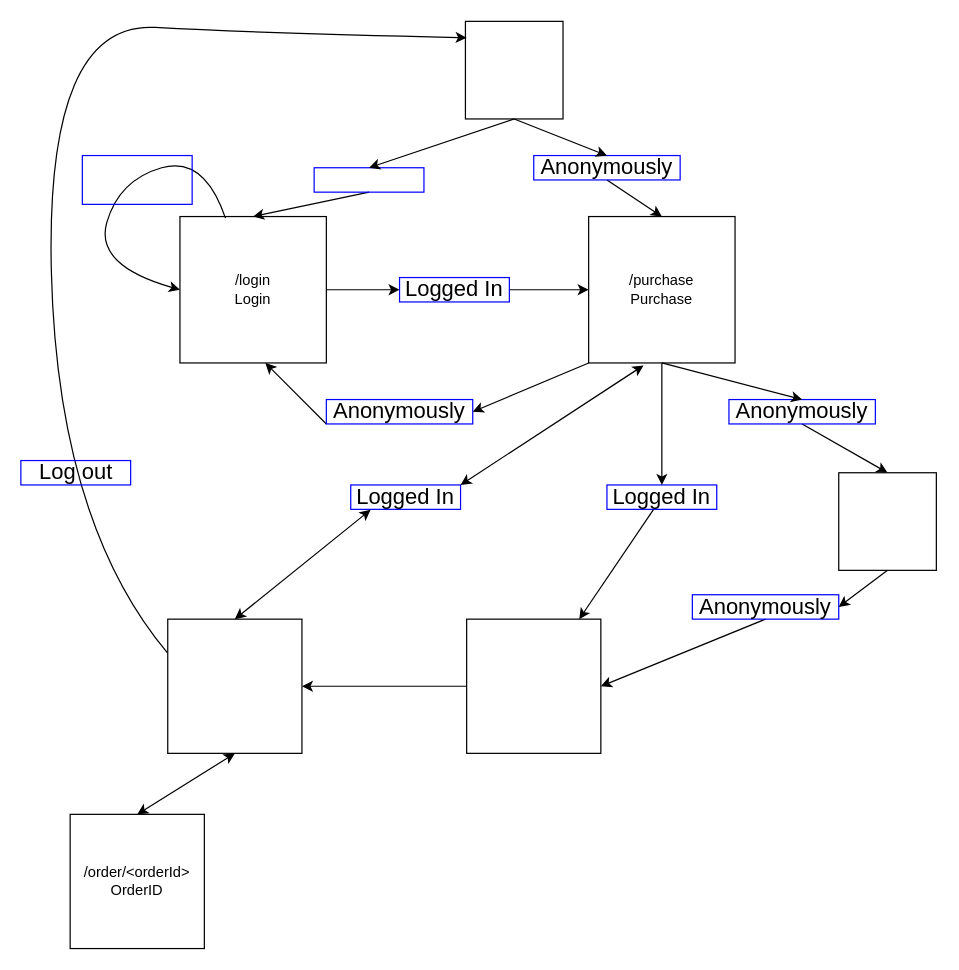
Some shapes in this 959 by 970 pixel diagram are drawn without their labels. Each missing label, with the centre of its shape:
"/ Landing Page" belongs at point 513,69.
"/order Order history / Order comfirmation" belongs at point 234,685.
"/stripe Stripe" belongs at point 533,685.
"/userinfo User Info" belongs at point 887,521.
"Log In" belongs at point 368,179.
"Log In Failed" belongs at point 136,179.
